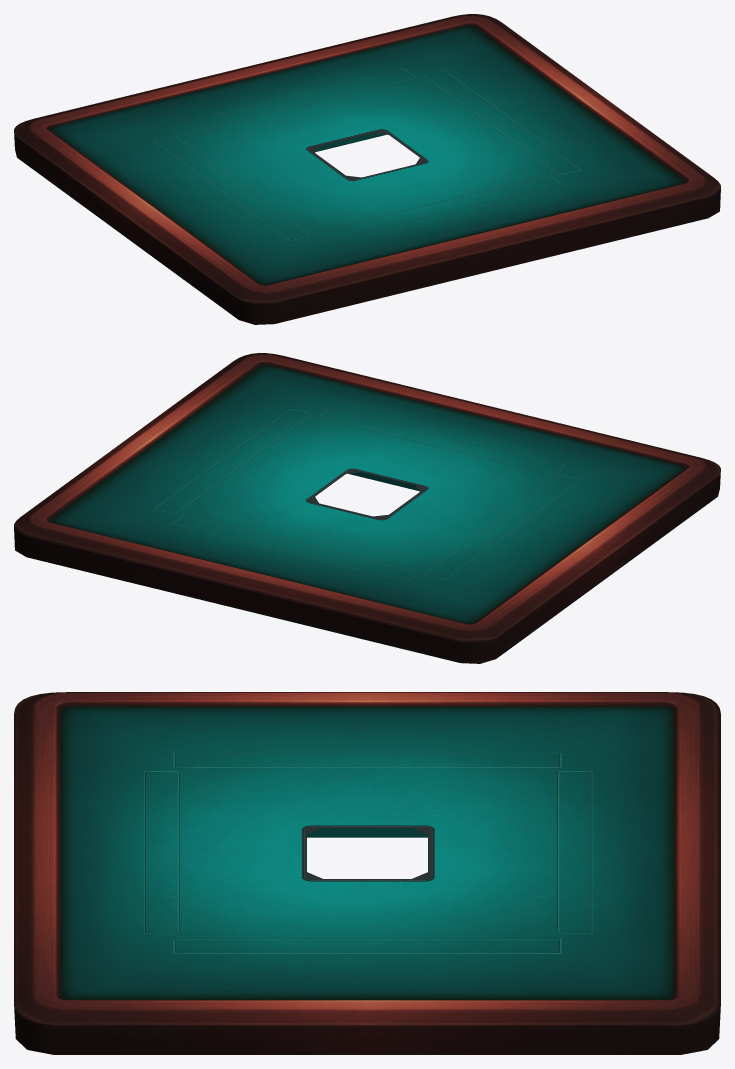
Rendered from table.FBX.
3 renders of one model, top to bottom at view 1: azimuth 30°, elevation 25°; view 2: azimuth 150°, elevation 25°; view 3: azimuth 270°, elevation 25°, orthographic. The views are drawn at different scales.
Visible parts, largest first — view 1: table_zm, table_ZB, table_sj; view 2: table_zm, table_ZB, table_sj; view 3: table_zm, table_ZB, table_sj.
Part boxes in pixels (left/top/right/bottom): table_zm: left=50, top=25, right=684, bottom=284; table_ZB: left=14, top=14, right=720, bottom=324; table_sj: left=155, top=69, right=578, bottom=241; table_zm: left=50, top=364, right=684, bottom=623; table_ZB: left=14, top=353, right=720, bottom=663; table_sj: left=156, top=408, right=579, bottom=580; table_zm: left=60, top=706, right=674, bottom=1000; table_ZB: left=14, top=692, right=720, bottom=1054; table_sj: left=144, top=753, right=590, bottom=952.
Bounding box in the file's own units: 1056 × 107 × 948.
